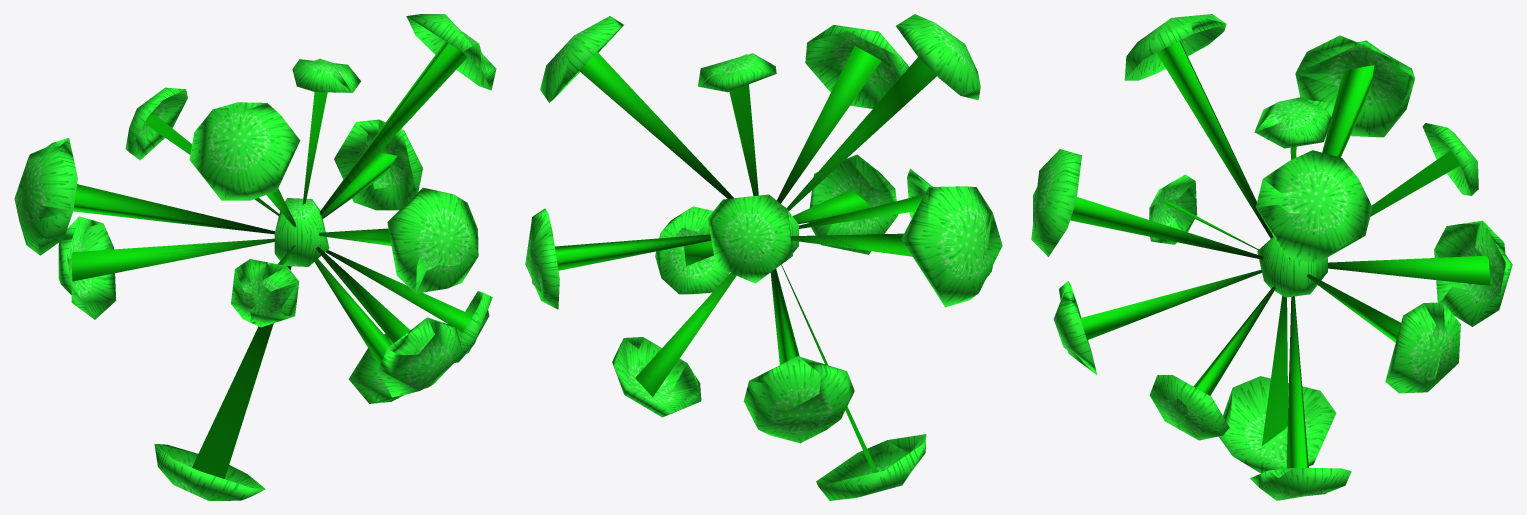
The model's file is Virus2_MOBILE.FBX.
The picture shows the model from 3 angles, left to right: view 1: azimuth 30°, elevation 25°; view 2: azimuth 150°, elevation 25°; view 3: azimuth 270°, elevation 25°; orthographic projection. The views are drawn at different scales.
Parts seen in each view (by area): view 1: Virus2; view 2: Virus2; view 3: Virus2.
Part boxes in pixels (bbox=[...]): Virus2: bbox=[14, 14, 496, 500]; Virus2: bbox=[525, 14, 1002, 500]; Virus2: bbox=[1031, 14, 1512, 500].
Size of the model in its own units: 3.07 by 2.87 by 2.86.
